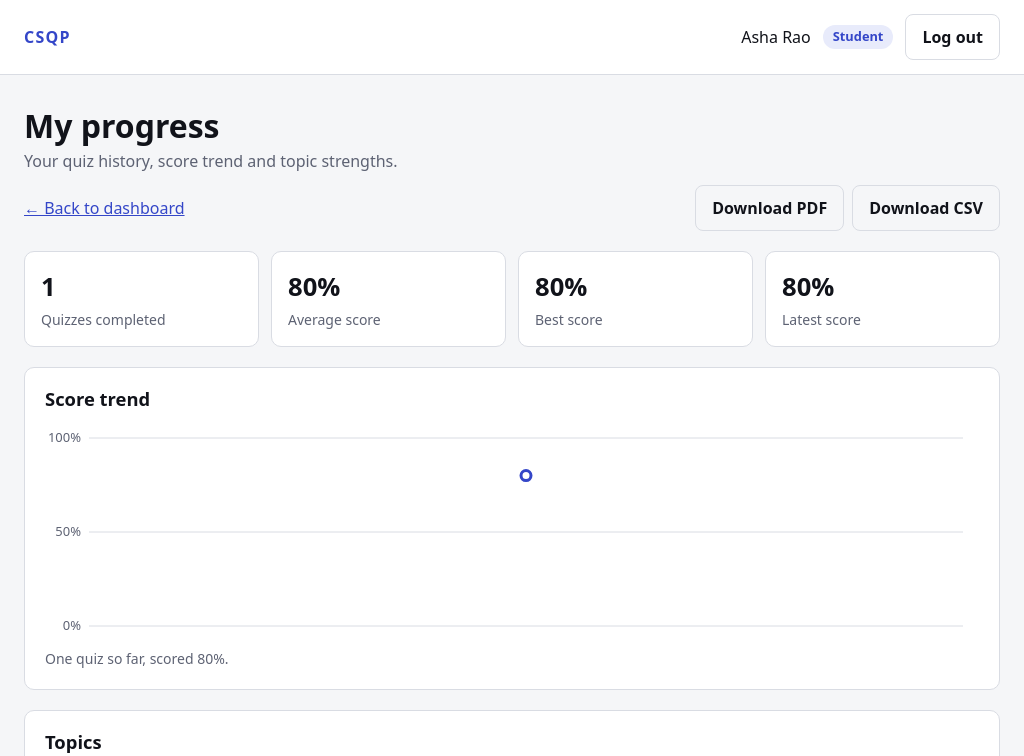
it: Report export buttons (CSQP-30) › explains when export is unavailable
The image size is (1024, 756).
What coordinates should you click on to do the following:
click the button "Download PDF"
I would click on:
 (770, 208)
Its box is top-left (695, 185), bottom-right (844, 231).
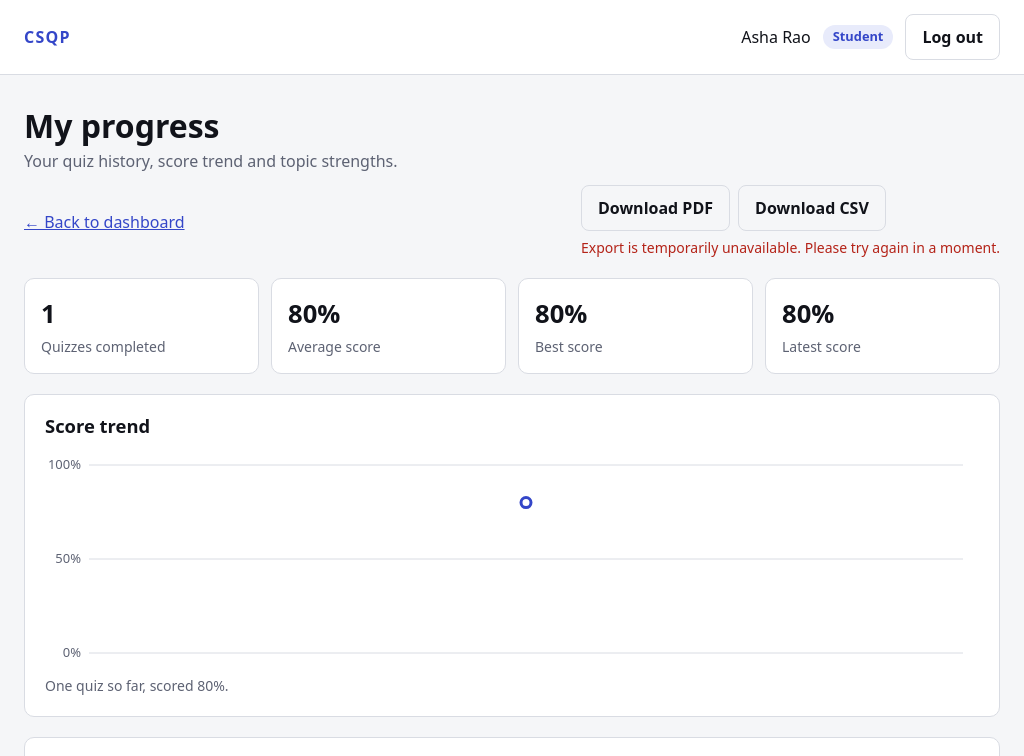
Expected: the message shows "Export is temporarily unavailable", top-left (581, 238), bottom-right (1000, 257)
